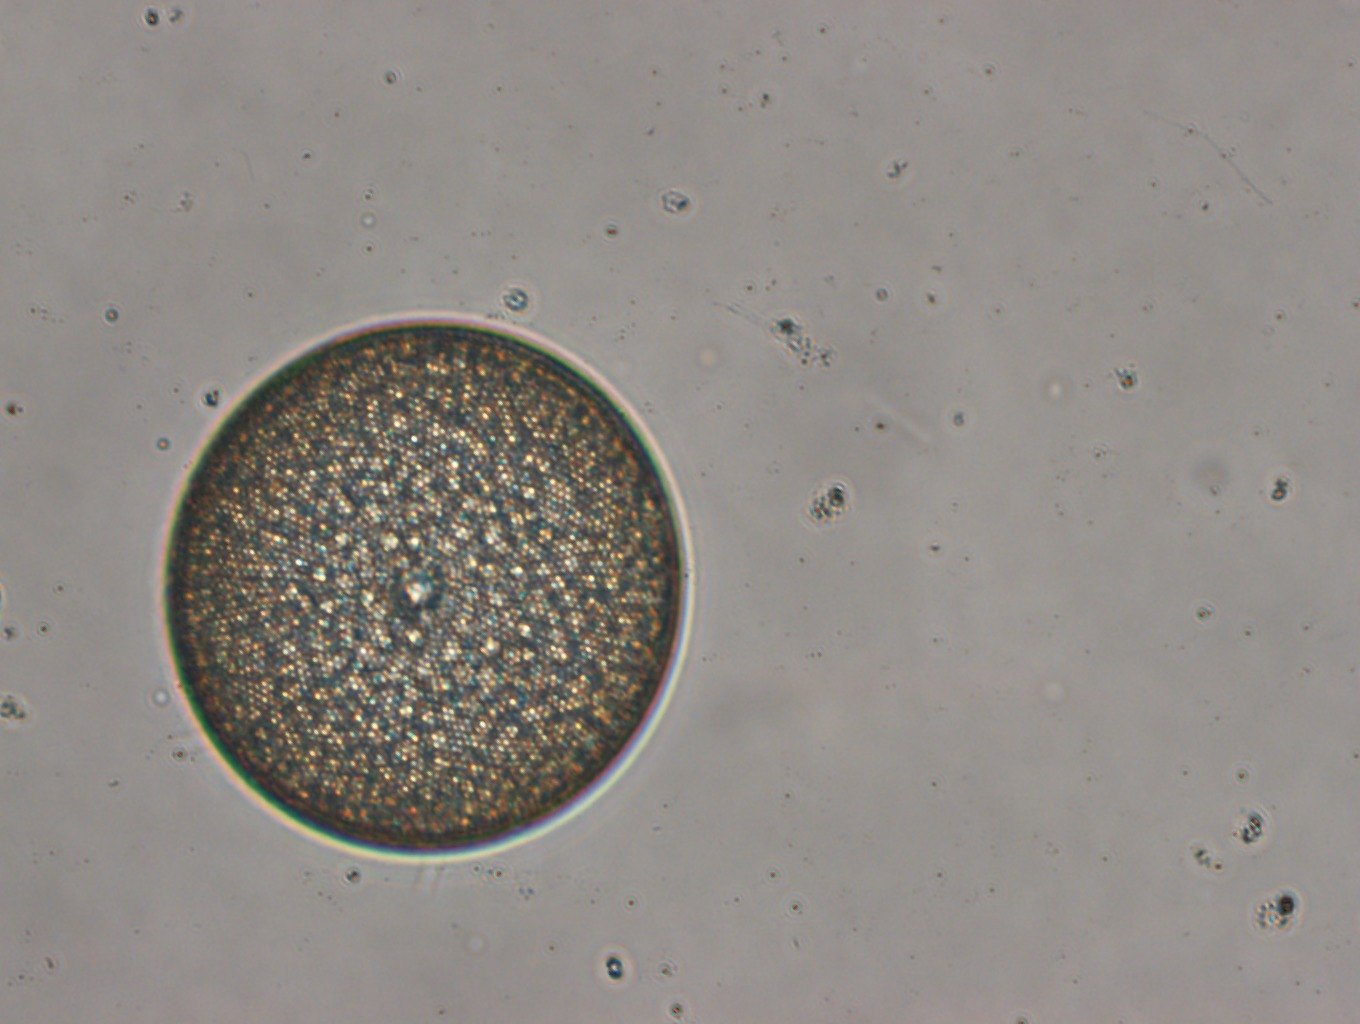coscinodiscus: (160, 316, 684, 853)
